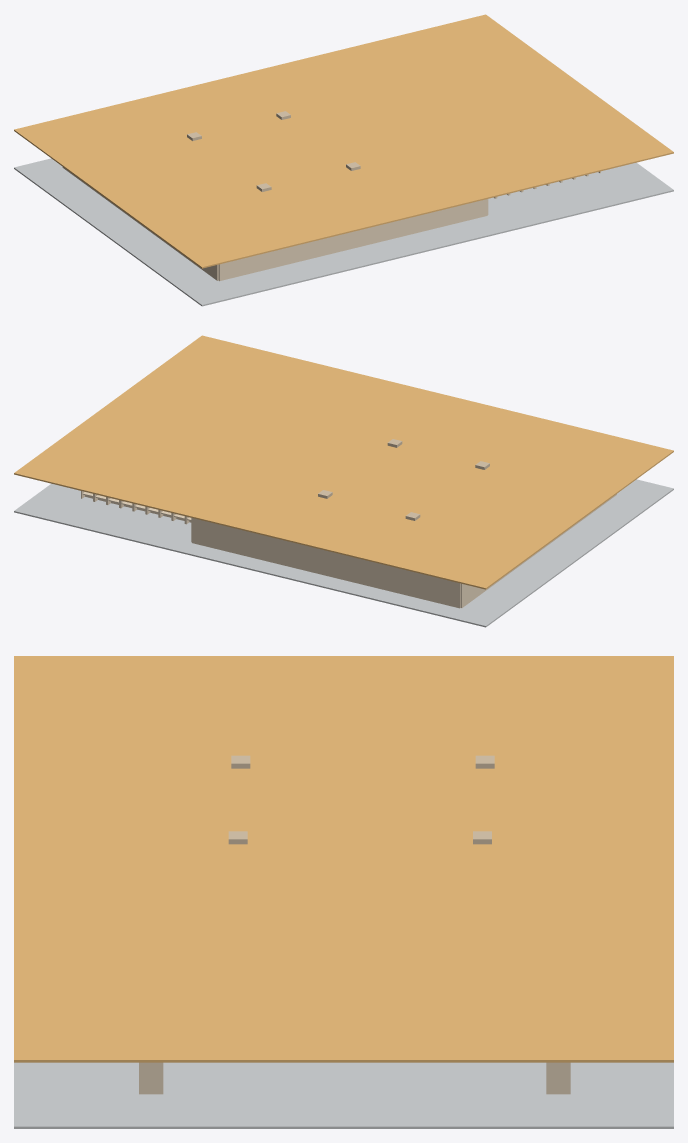
File: the_end.glb
3 renders of one model, top to bottom at view 1: azimuth 30°, elevation 25°; view 2: azimuth 150°, elevation 25°; view 3: azimuth 270°, elevation 25°, orthographic. The views are drawn at different scales.
Parts seen in each view (by area): view 1: Object_7, Object_2, Object_6; view 2: Object_7, Object_2, Object_6, Object_5; view 3: Object_7, Object_2, Object_5, Object_4.
Part boxes in pixels (box(x1,y1,x2,y2)): Object_7: box(14, 14, 673, 268); Object_2: box(14, 158, 673, 306); Object_6: box(62, 167, 488, 281); Object_7: box(14, 335, 673, 589); Object_2: box(14, 479, 673, 627); Object_6: box(191, 494, 616, 608); Object_5: box(81, 491, 191, 524); Object_7: box(14, 656, 673, 1062); Object_2: box(14, 1062, 673, 1128); Object_5: box(139, 1062, 570, 1094); Object_4: box(228, 755, 494, 844).
Size of the model in its own units: 352 by 30 by 243.
